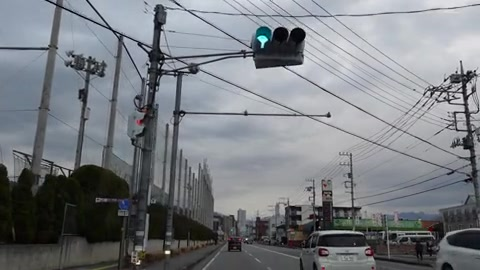traffic_sign: (116, 197, 131, 212)
